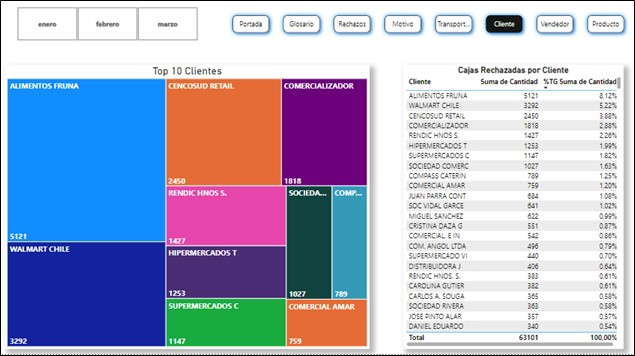

The dashboard page shown, as its layout file describes it:
{"tool":"powerbi","page":{"name":"Cliente","canvas":[1280,720],"ordinal":5},"visuals":[{"type":"treemap","title":"Top 10 Clientes","fields":{"Group":["Rechazos.Cliente        "],"Values":["Sum(Rechazos.Cantidad)"]},"box":[18.7,141.1,727.2,567.4],"z":0},{"type":"tableEx","title":"Cajas Rechazadas por Cliente","fields":{"Values":["Rechazos.Cliente        ","Sum(Rechazos.Cantidad)","Divide(Sum(Rechazos.Cantidad), ScopedEval(Sum(Rechazos.Cantidad), []))"]},"box":[813.6,141.1,439.2,567.4],"z":1000},{"type":"pageNavigator","box":[463.7,34.6,800.6,53.3],"z":2000},{"type":"slicer","fields":{"Values":["Tabla Calendario.Mes"]},"box":[18.7,21.6,407.5,79.2],"z":3000}]}

Visuals, with their boxes in screenshot pixels (x1, y1, x2, y2), scaled from the page's 1280x720 canvas onto the 635x356 screenshot:
"Top 10 Clientes" treemap: <region>9, 70, 370, 350</region>
"Cajas Rechazadas por Cliente" tableEx: <region>404, 70, 622, 350</region>
pageNavigator: <region>230, 17, 627, 43</region>
slicer - Tabla Calendario.Mes: <region>9, 11, 211, 50</region>
